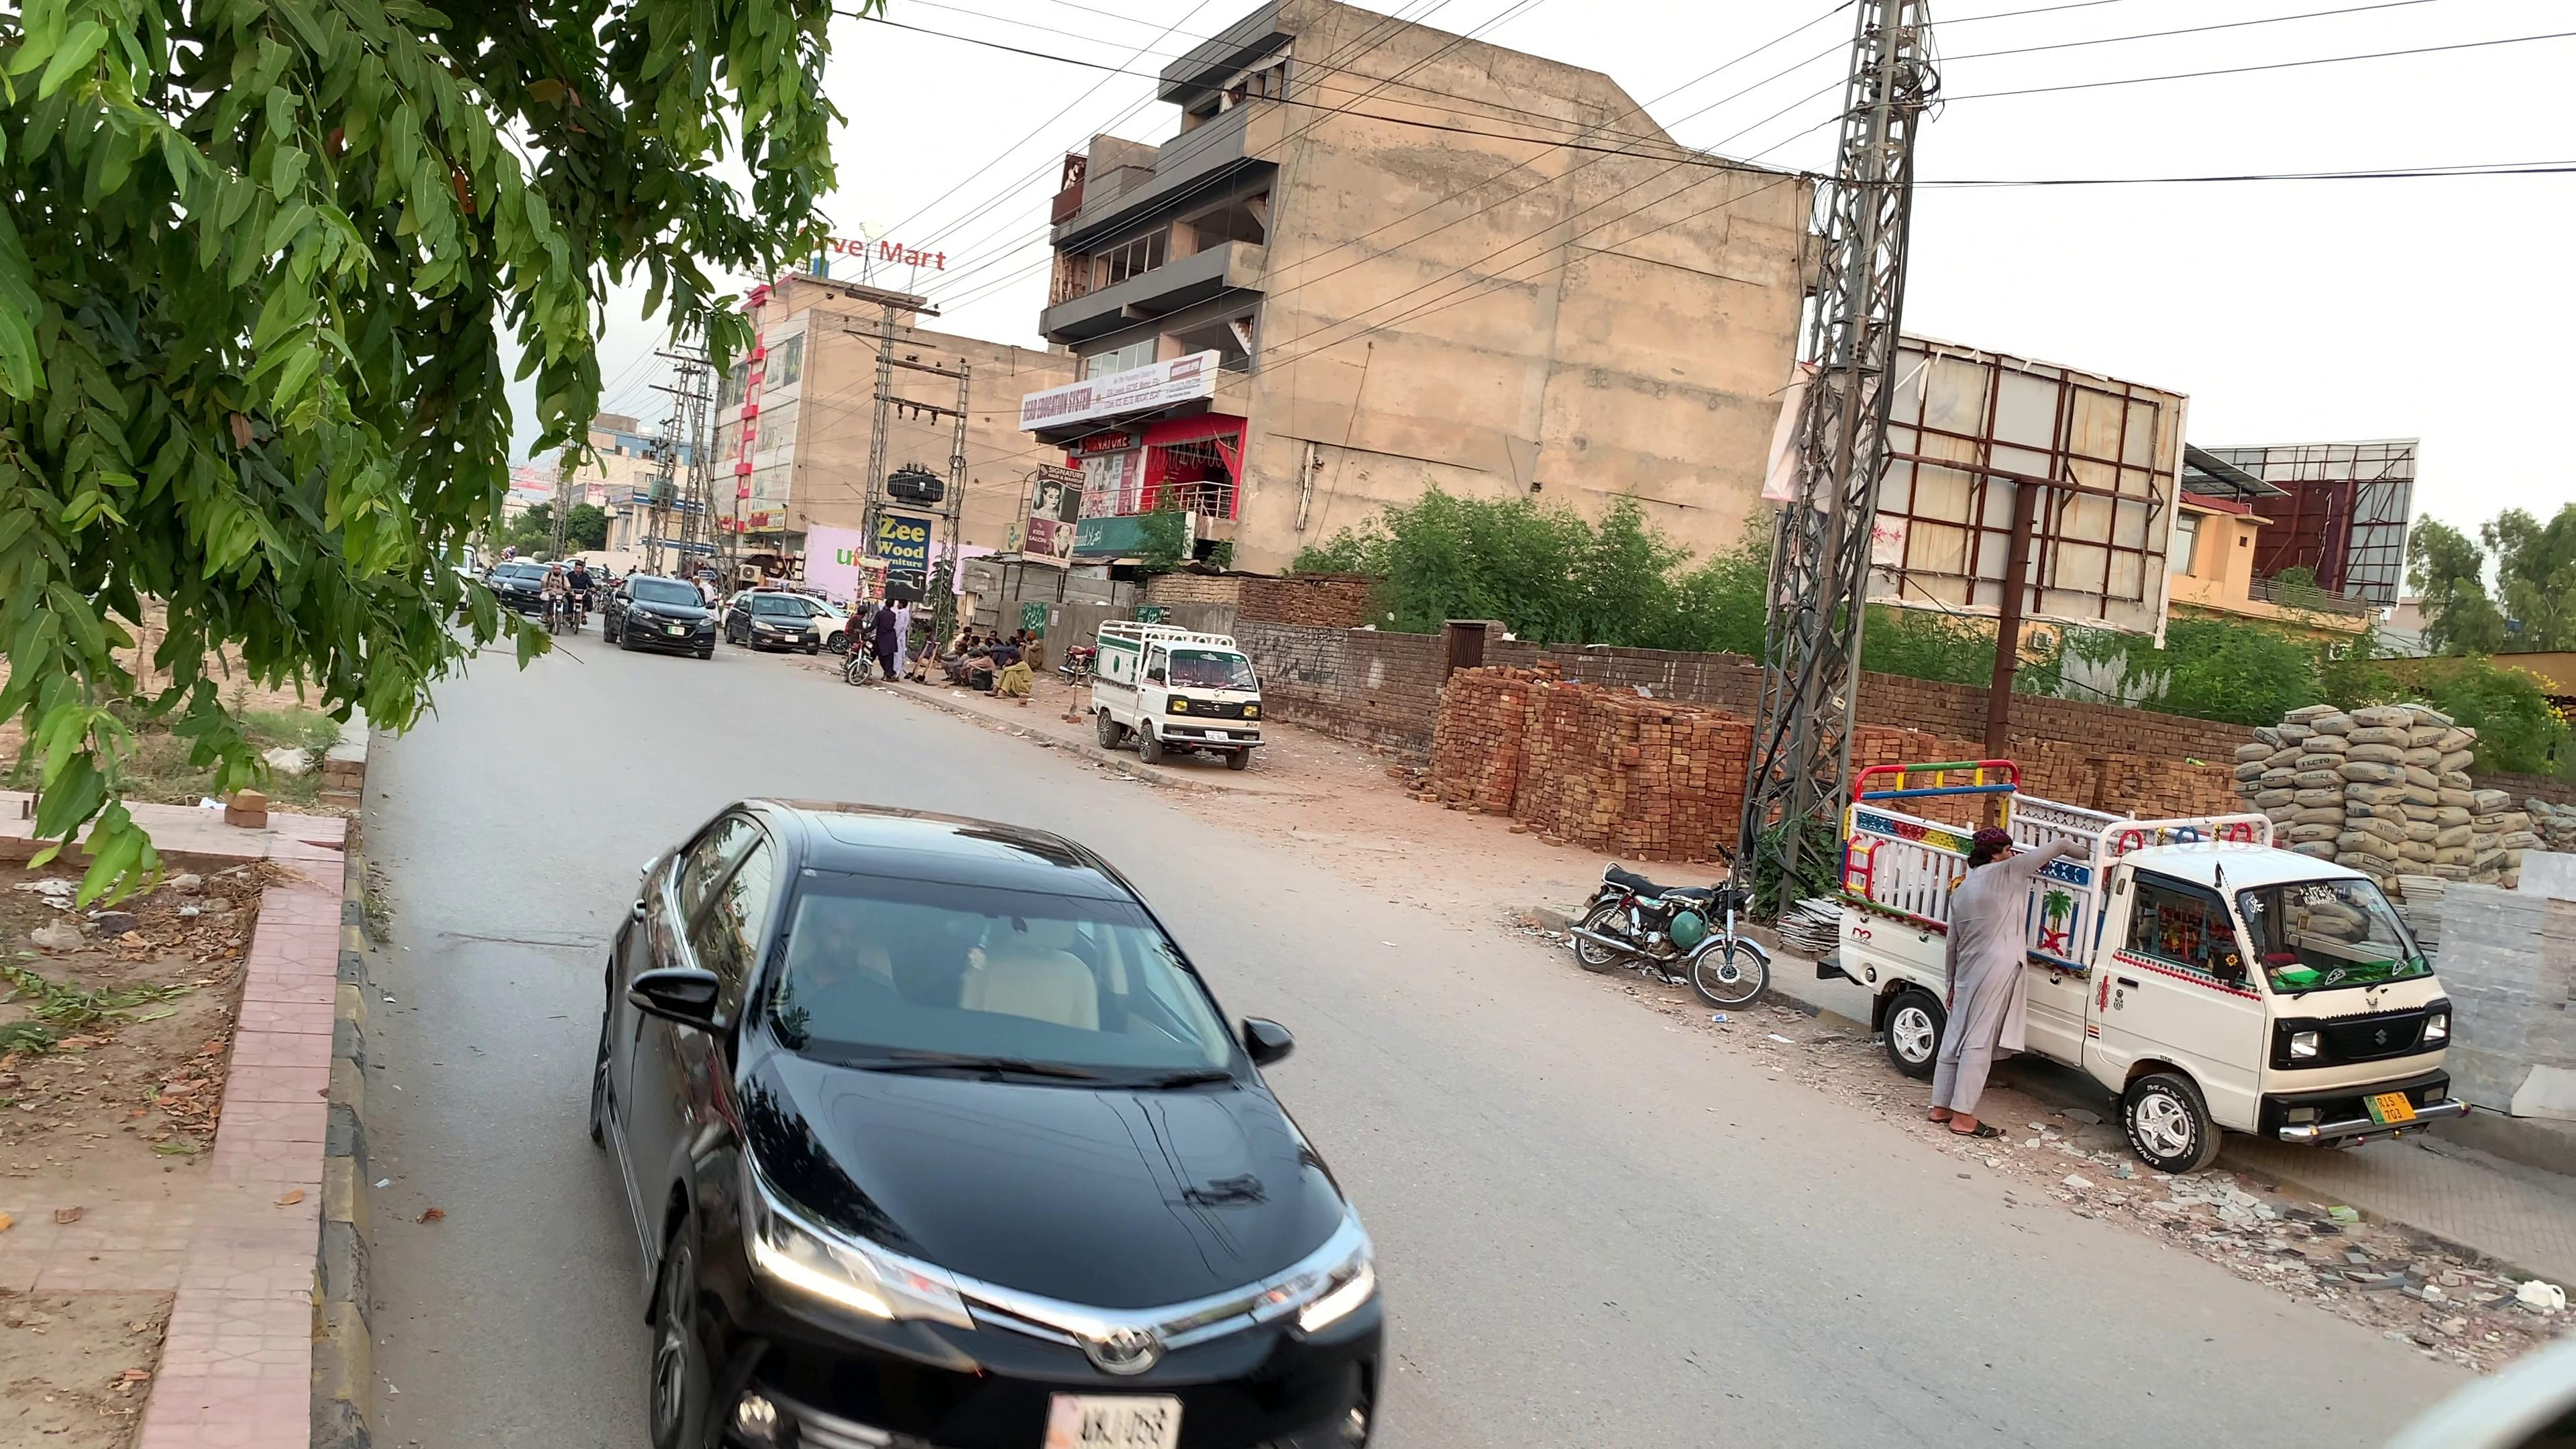windshield: (766, 869, 1254, 1070)
